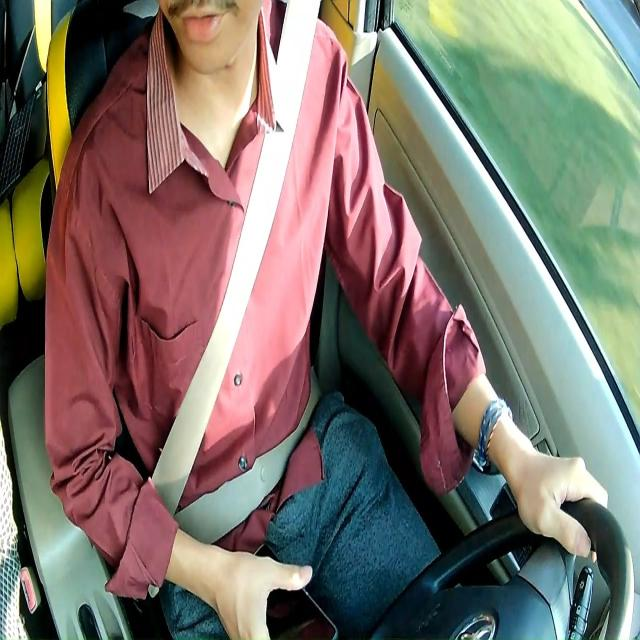phone: (250, 540, 338, 640)
